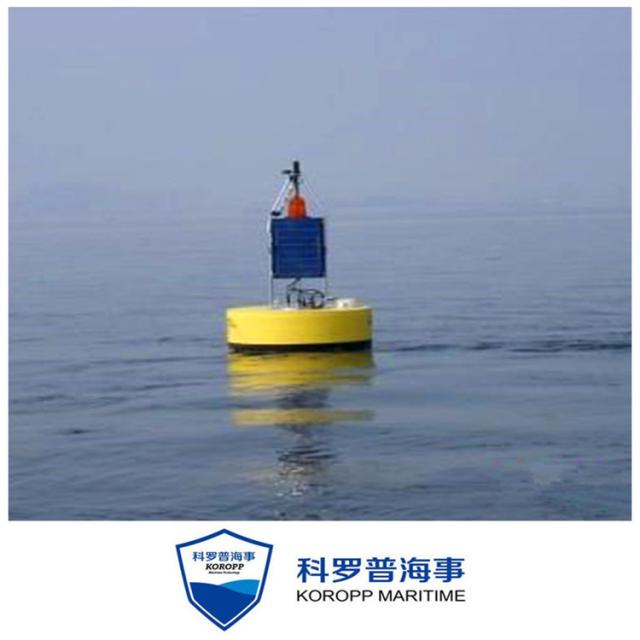buoy: (216, 156, 382, 354)
